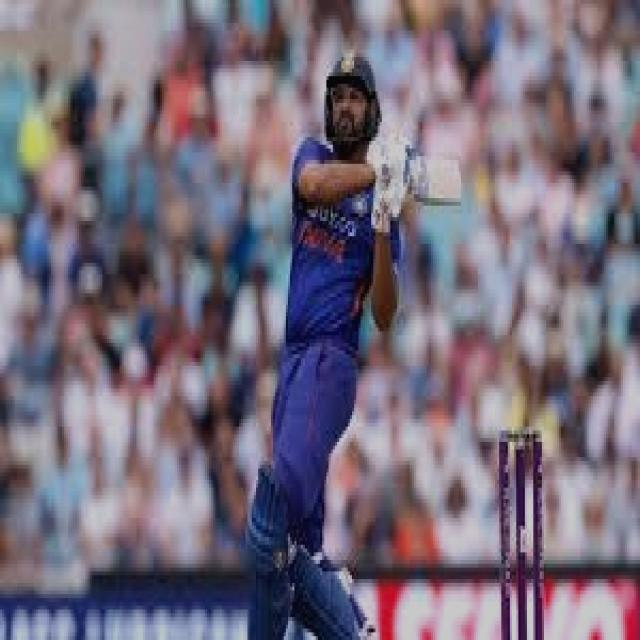toe: (452, 157, 462, 205)
